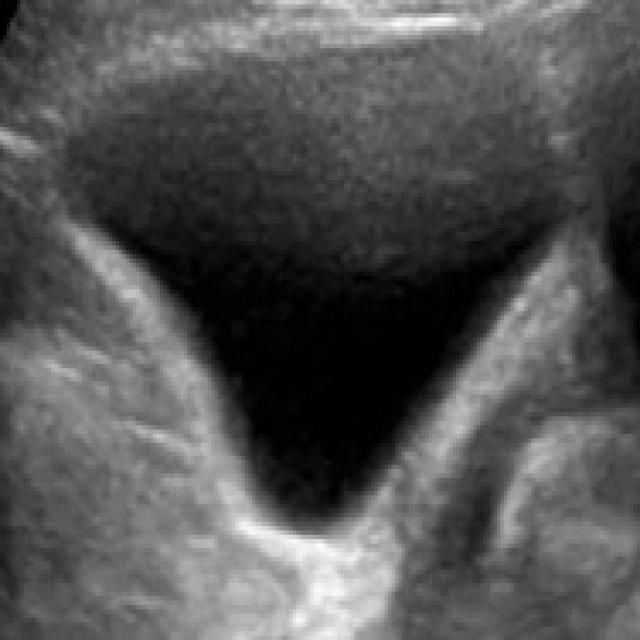bladder: (34, 10, 584, 598)
